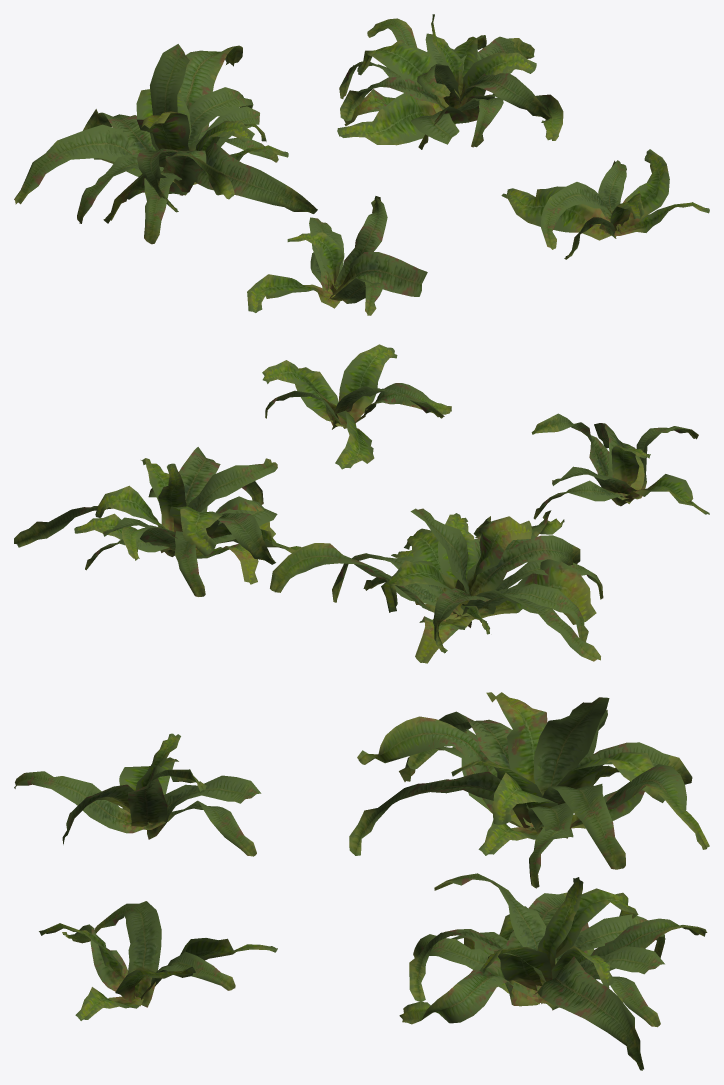
Rendered from fern.glb.
3 views of the same model, one above another, from view 1: azimuth 30°, elevation 25°; view 2: azimuth 150°, elevation 25°; view 3: azimuth 270°, elevation 25° (orthographic). The views are drawn at different scales.
Parts seen in each view (by area): view 1: fern_02_b; view 2: fern_02_b; view 3: fern_02_b.
Part boxes in pixels (bbox=[...]): fern_02_b: bbox=[14, 14, 709, 315]; fern_02_b: bbox=[14, 344, 709, 663]; fern_02_b: bbox=[14, 692, 709, 1070].
Bounding box in the file's own units: 1.97 × 0.4277 × 1.72.
Materials: 1 (1 with a texture image).
